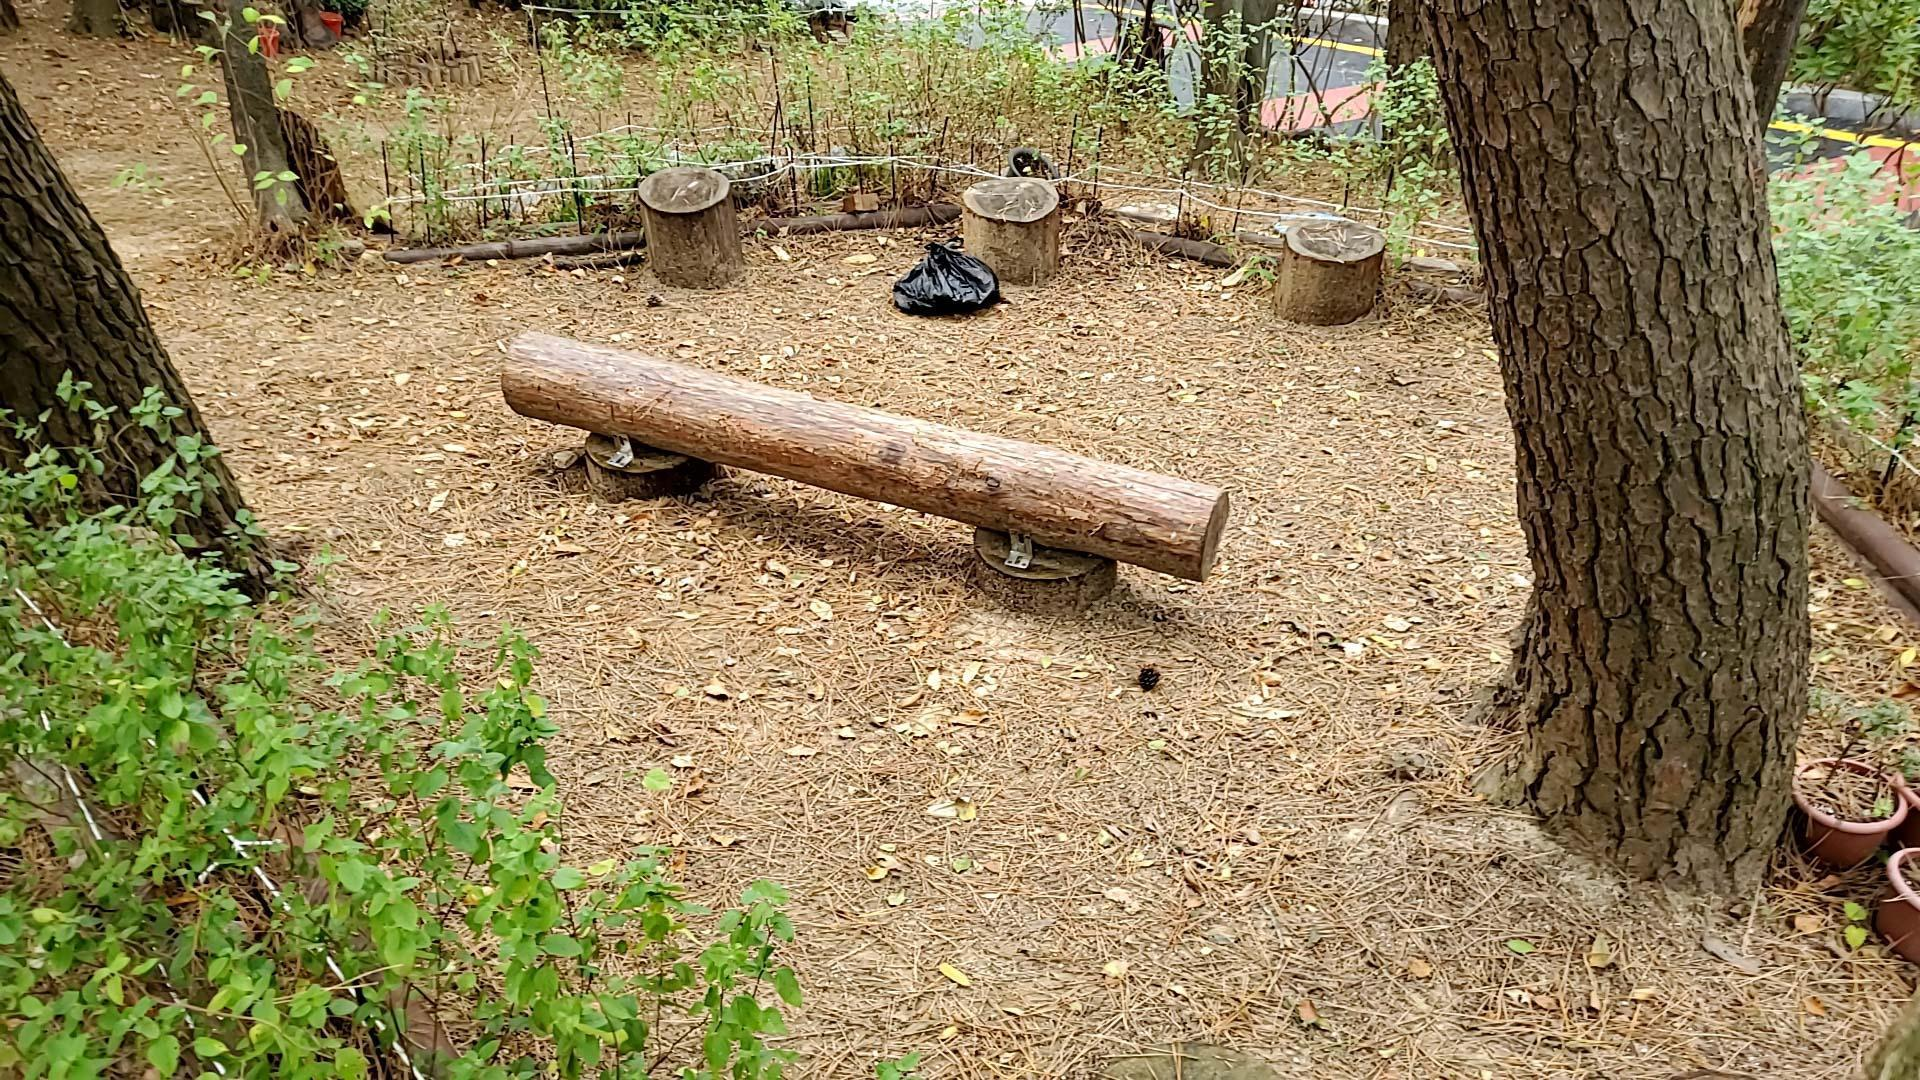black_bag: (884, 240, 1005, 324)
